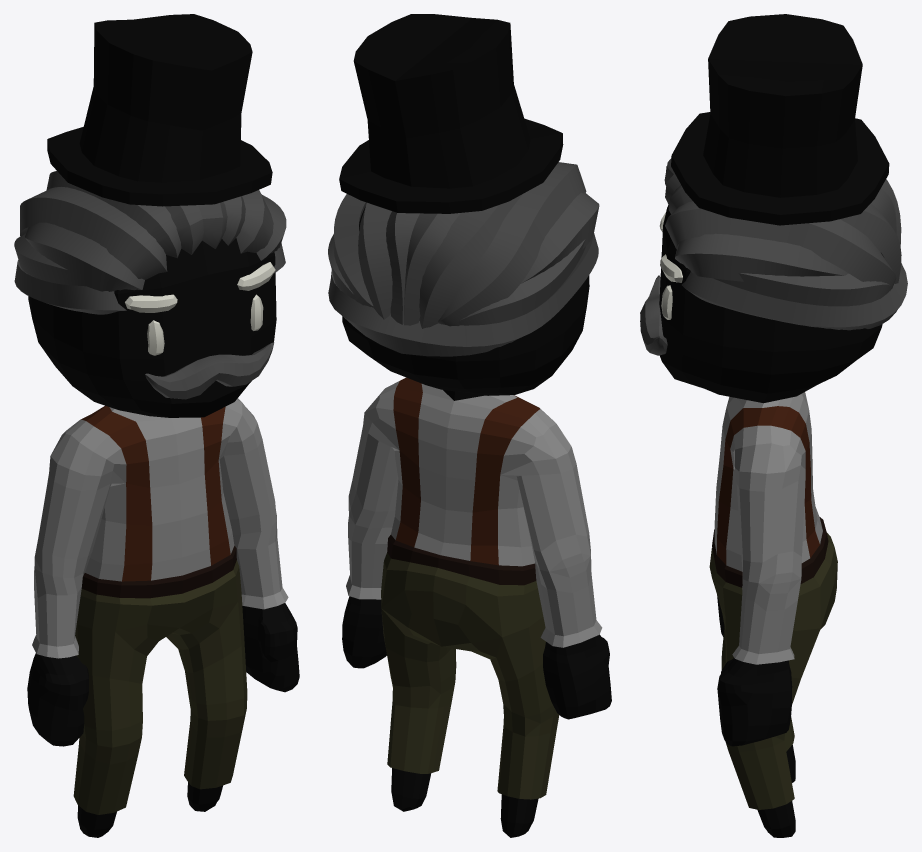
Rendered from OldClassy_Male.obj.
3 renders of one model, left to right at view 1: azimuth 30°, elevation 25°; view 2: azimuth 150°, elevation 25°; view 3: azimuth 270°, elevation 25°, orthographic.
Visible parts, largest first — view 1: Body_Cube.004; view 2: Body_Cube.004; view 3: Body_Cube.004.
Part boxes in pixels (box(x1,y1,x2,y2)): Body_Cube.004: box(14, 14, 299, 837); Body_Cube.004: box(328, 14, 611, 837); Body_Cube.004: box(640, 14, 907, 837).
Bounding box in the file's own units: 1.29 × 3.73 × 1.16.
